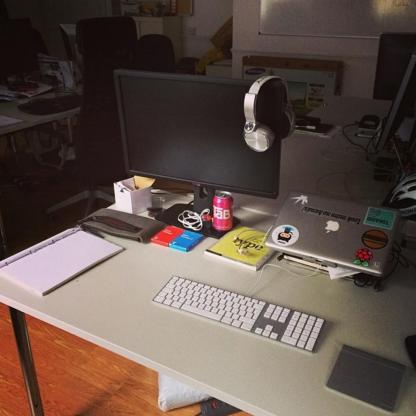board: (262, 190, 405, 277), (210, 190, 236, 234)
